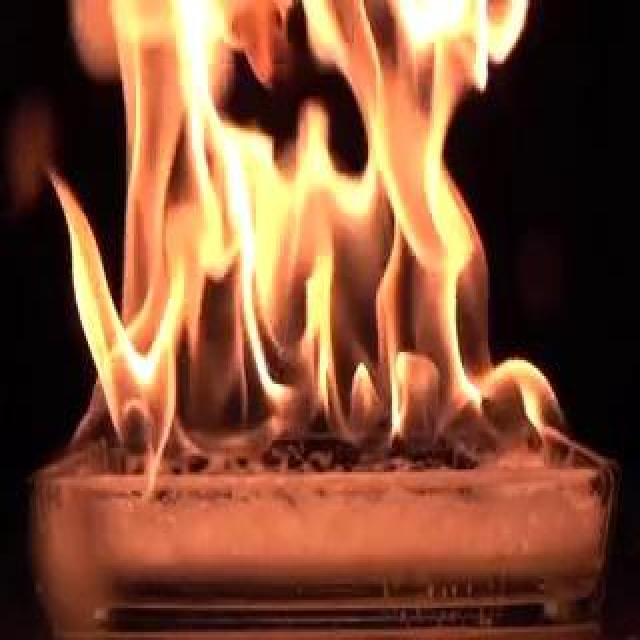Fire: (15, 2, 555, 482)
